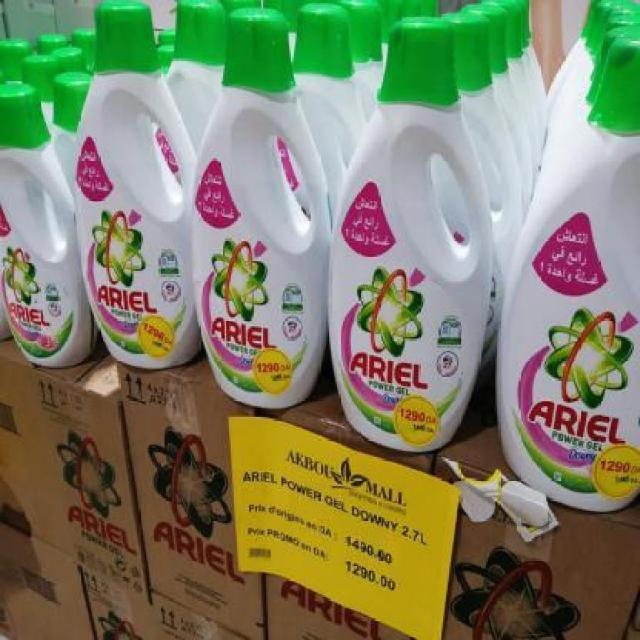Detergent: (319, 14, 487, 448), (498, 53, 640, 516), (177, 4, 326, 410), (65, 0, 201, 371), (0, 80, 92, 364)
